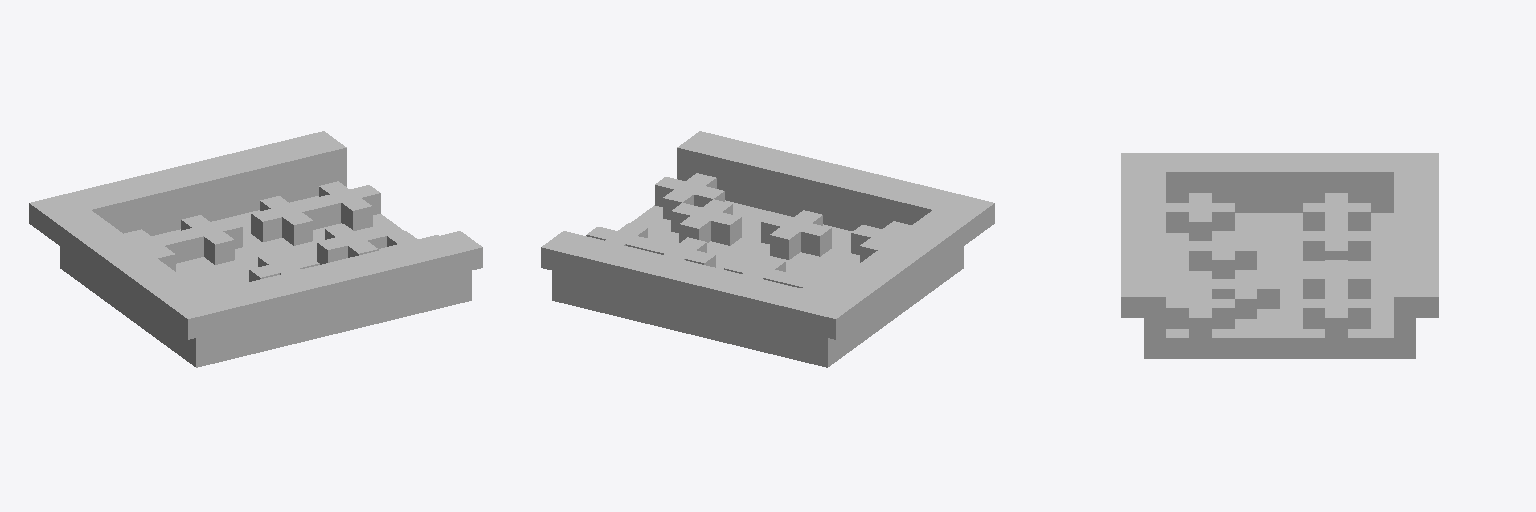
Rendered from Plants_Corner.obj.
The picture shows the model from 3 angles: view 1: azimuth 30°, elevation 25°; view 2: azimuth 150°, elevation 25°; view 3: azimuth 270°, elevation 25°; orthographic projection.
Parts seen in each view (by area): view 1: Plants_Corner; view 2: Plants_Corner; view 3: Plants_Corner.
Boxes of the visible parts, box(x1,y1,x2,y2) form: Plants_Corner: box(29, 131, 482, 367); Plants_Corner: box(541, 131, 994, 367); Plants_Corner: box(1121, 153, 1438, 358).
Bounding box in the file's own units: 15 × 3 × 14.